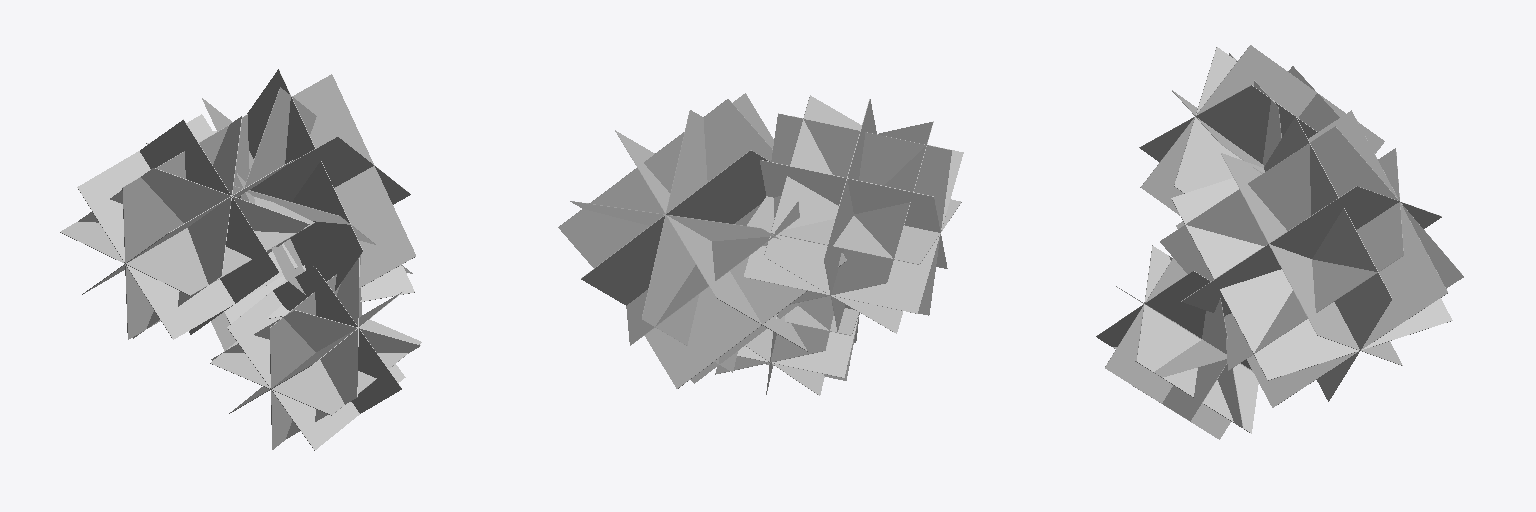
File: RhodeTree2-Leaves.obj
3 views of the same model, side by side, from view 1: azimuth 30°, elevation 25°; view 2: azimuth 150°, elevation 25°; view 3: azimuth 270°, elevation 25° (orthographic).
Visible parts, largest first — view 1: Plane.002; view 2: Plane.002; view 3: Plane.002.
Part boxes in pixels (left/top/right/bottom): Plane.002: left=60, top=69, right=421, bottom=450; Plane.002: left=558, top=93, right=963, bottom=395; Plane.002: left=1096, top=45, right=1463, bottom=439.
Bounding box in the file's own units: 16.09 × 14.92 × 14.77.